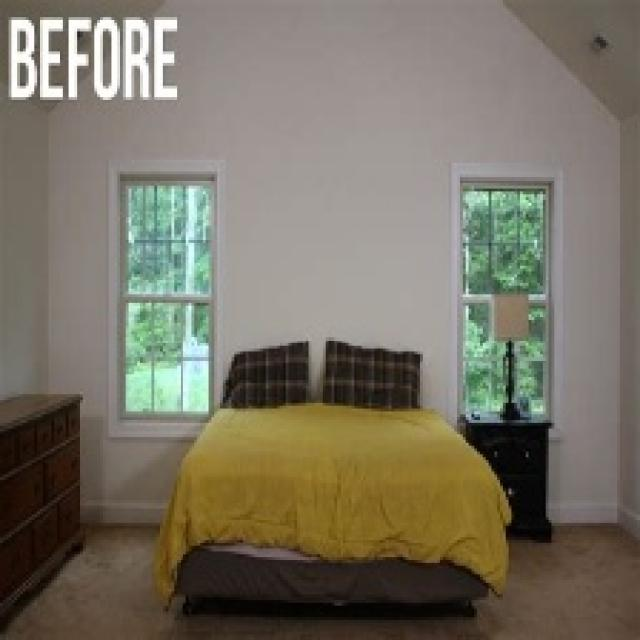Bed: (152, 400, 512, 617)
